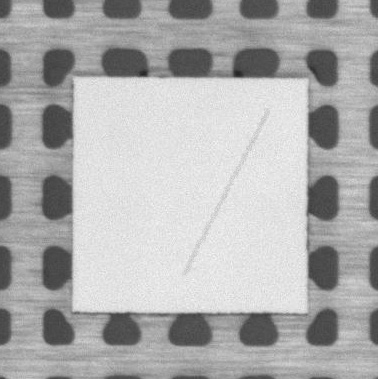DIE_CRACK: (184, 111, 267, 275)
